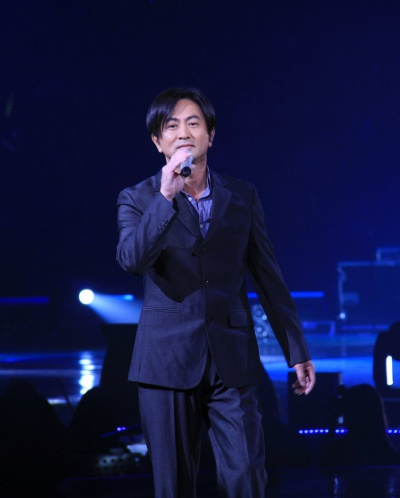male: (139, 78, 247, 182)
